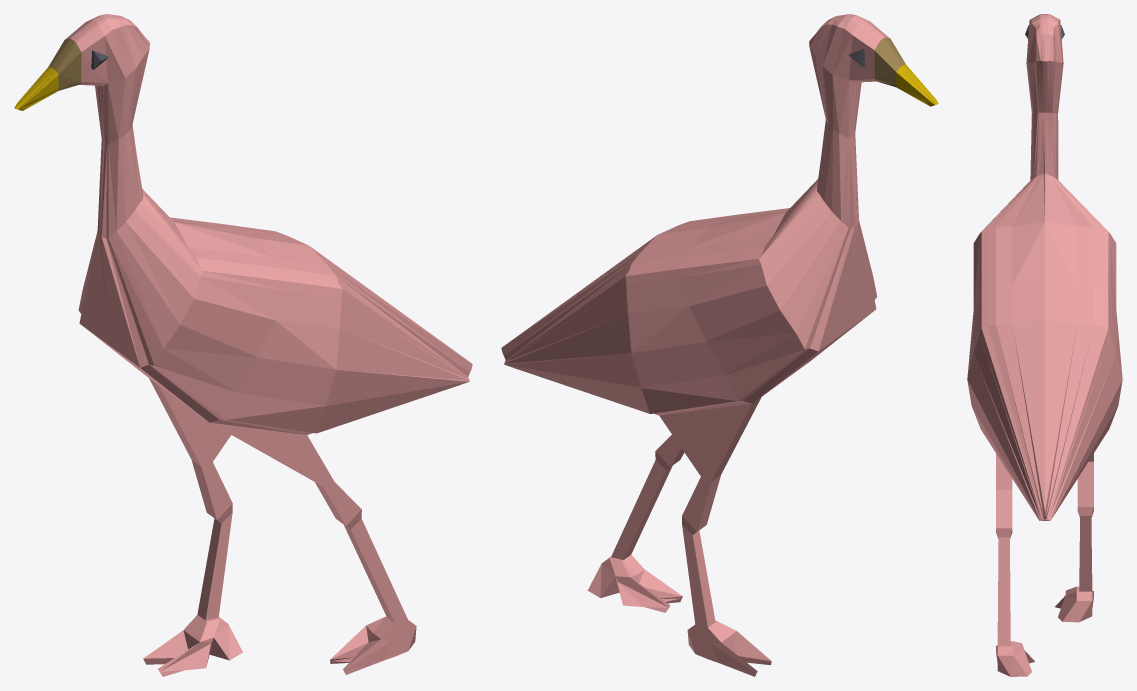
The model's file is Bird_1.fbx.
3 views of the same model, side by side, from view 1: azimuth 30°, elevation 25°; view 2: azimuth 150°, elevation 25°; view 3: azimuth 270°, elevation 25° (orthographic). The views are drawn at different scales.
Visible parts, largest first — view 1: polySurface548; view 2: polySurface548; view 3: polySurface548.
Part boxes in pixels (x1,y1,x2,y2): polySurface548: (14,14,472,676); polySurface548: (501,14,938,676); polySurface548: (967,14,1122,676).
Bounding box in the file's own units: 327 × 468 × 119.
